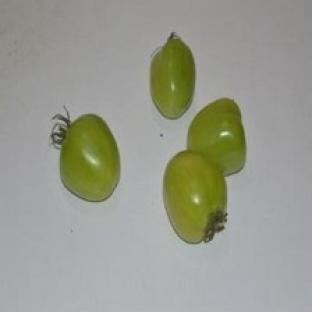Tomato: (163, 151, 227, 243), (52, 115, 119, 201), (187, 98, 246, 175), (151, 34, 194, 118)
